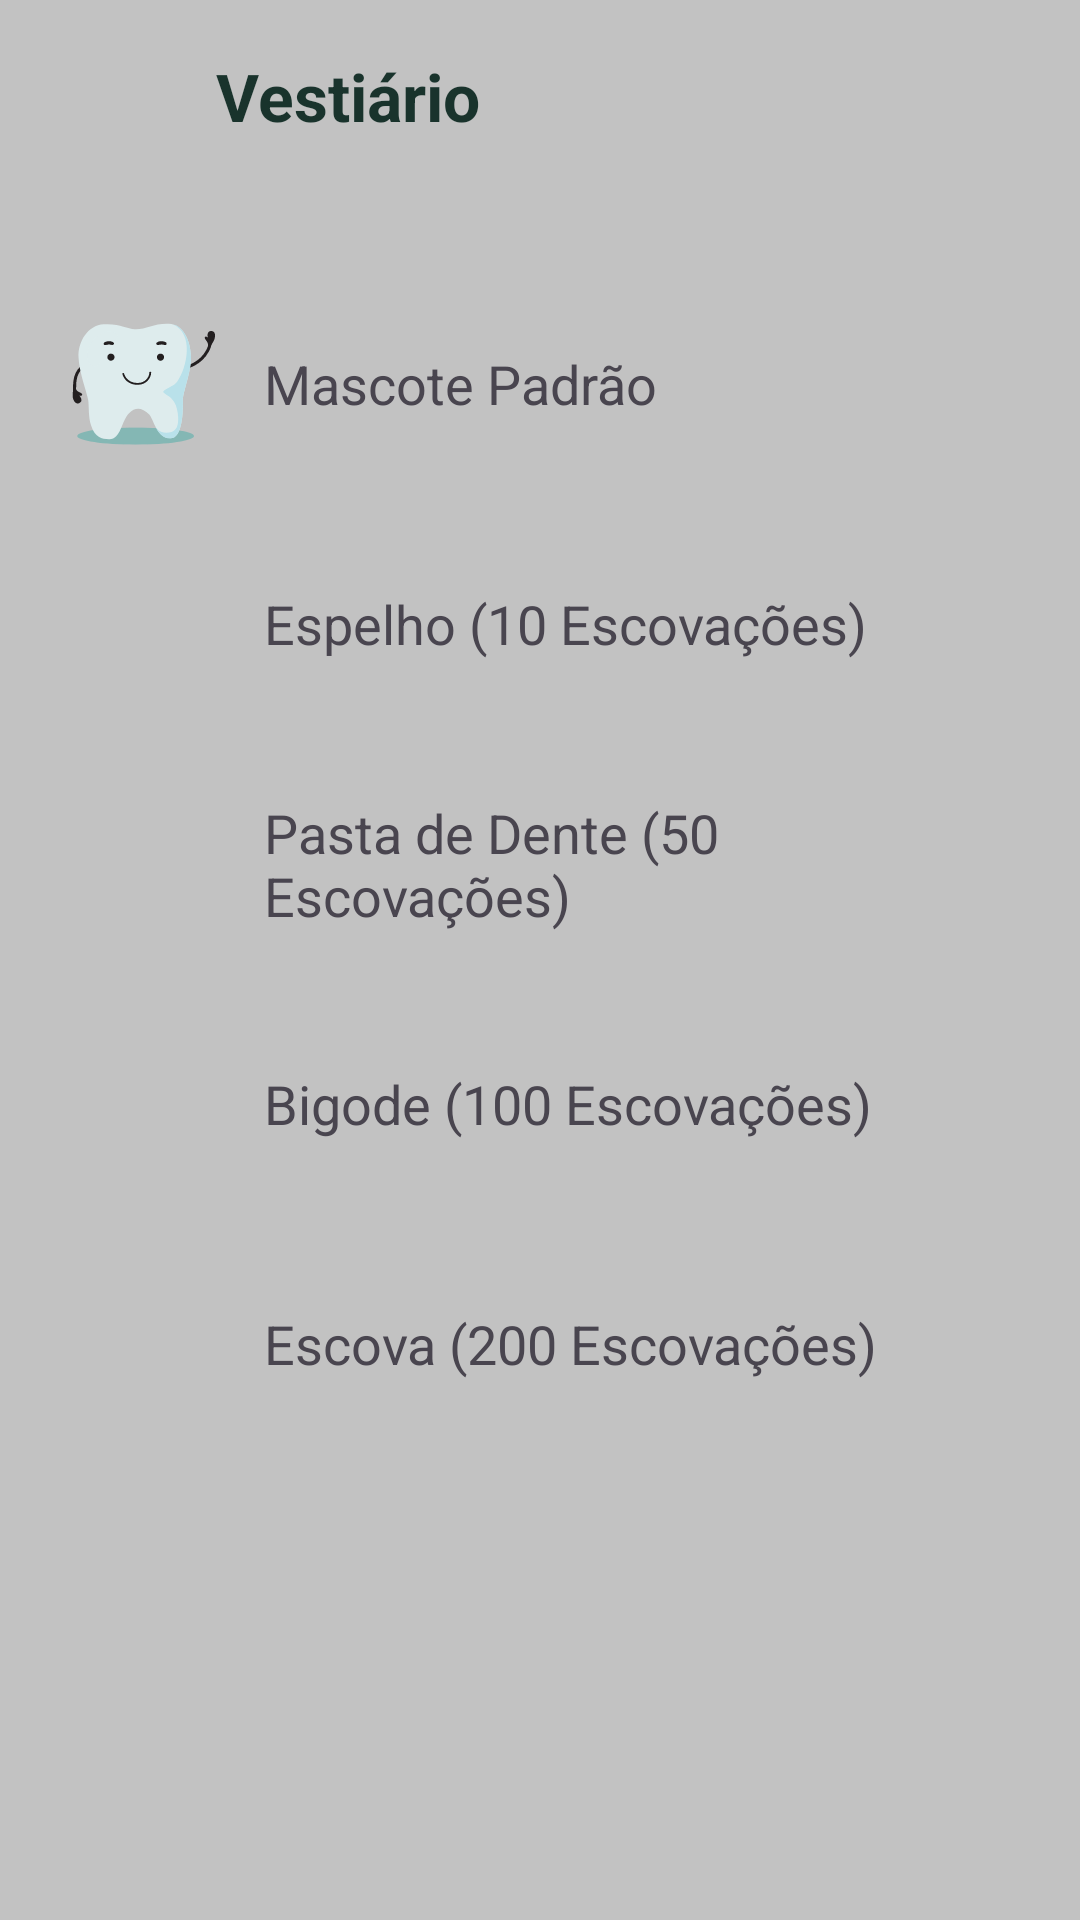

Named icons in this screenshot (1080*1920) and their centers, point (x, y):
mascote feliz: point (143, 384)
